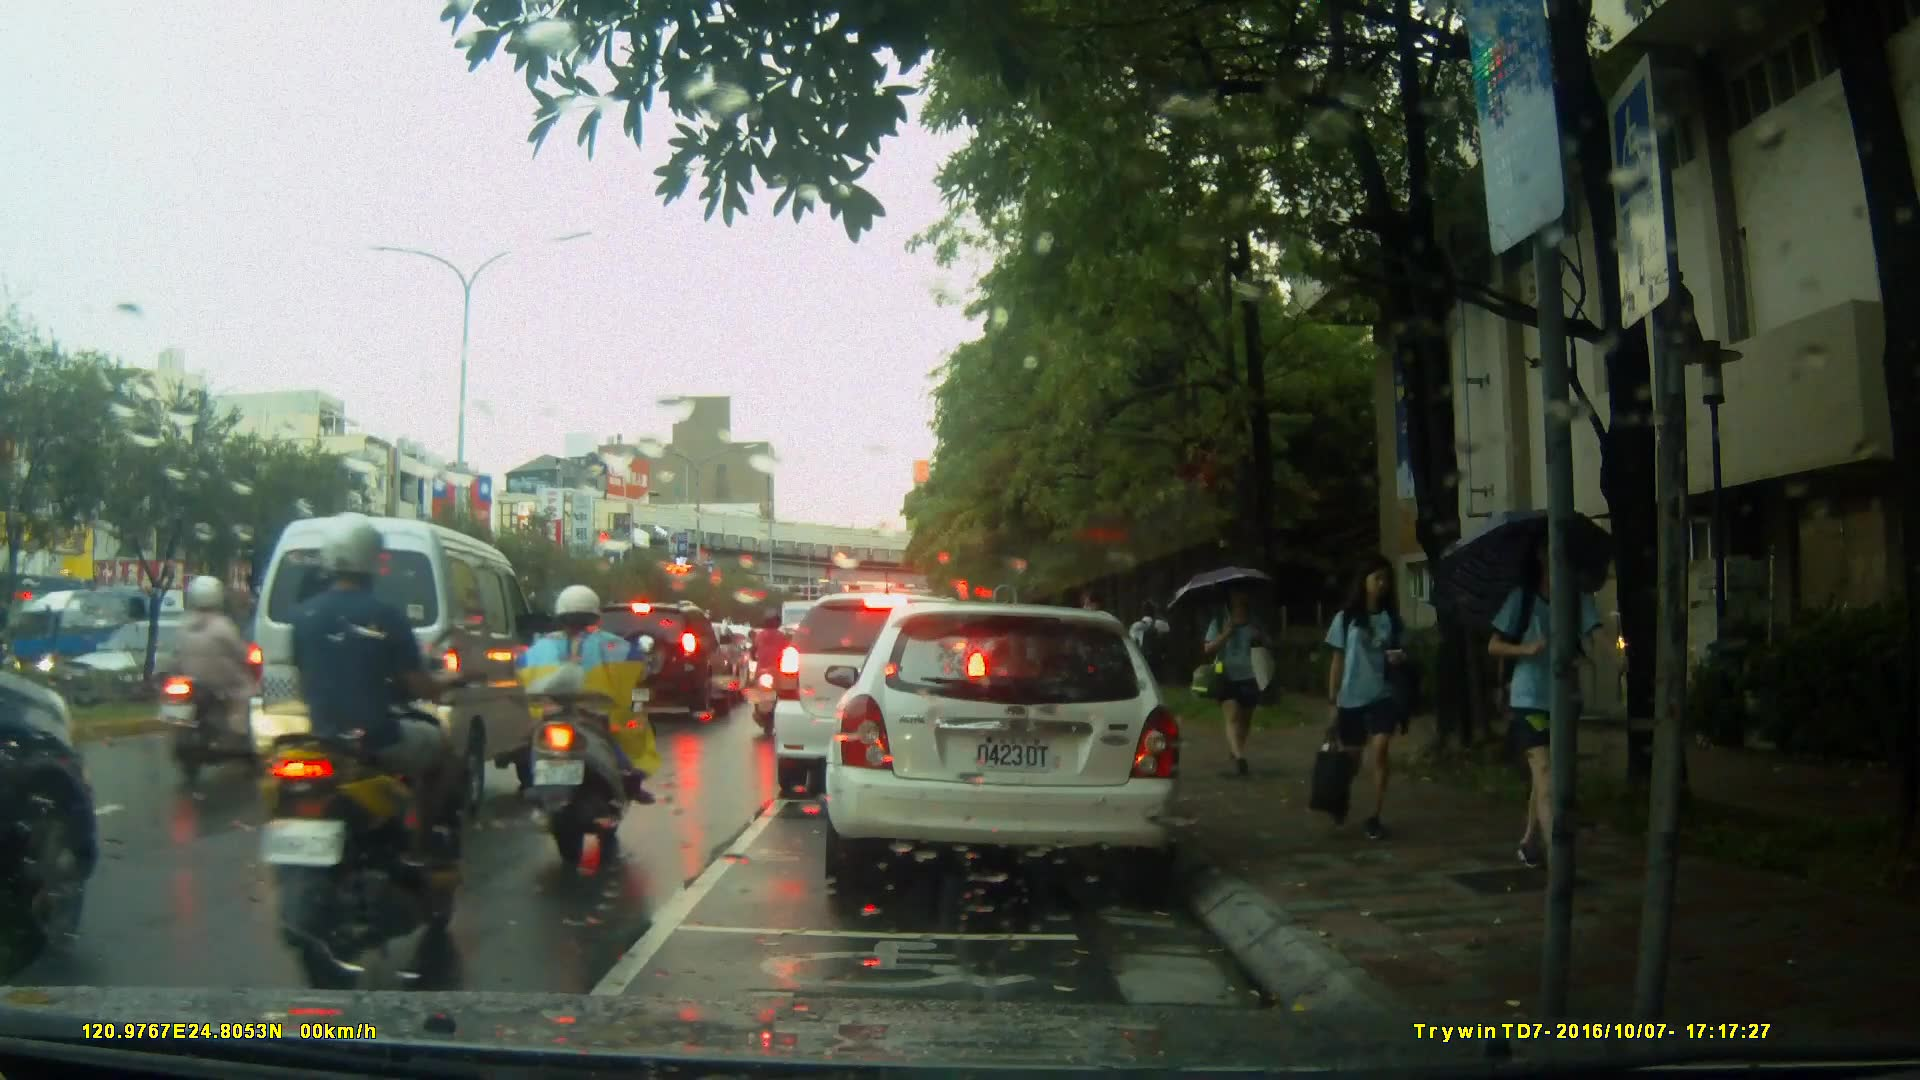pedestrian: (1468, 520, 1616, 893), (1496, 537, 1602, 844), (1313, 551, 1415, 855), (1188, 575, 1268, 785)
rider: (261, 512, 474, 973), (517, 585, 659, 865), (171, 576, 289, 776), (744, 605, 795, 732)
vehicle: (815, 593, 1204, 909), (235, 514, 542, 821), (770, 590, 994, 802), (578, 603, 737, 725), (1, 584, 150, 686)
